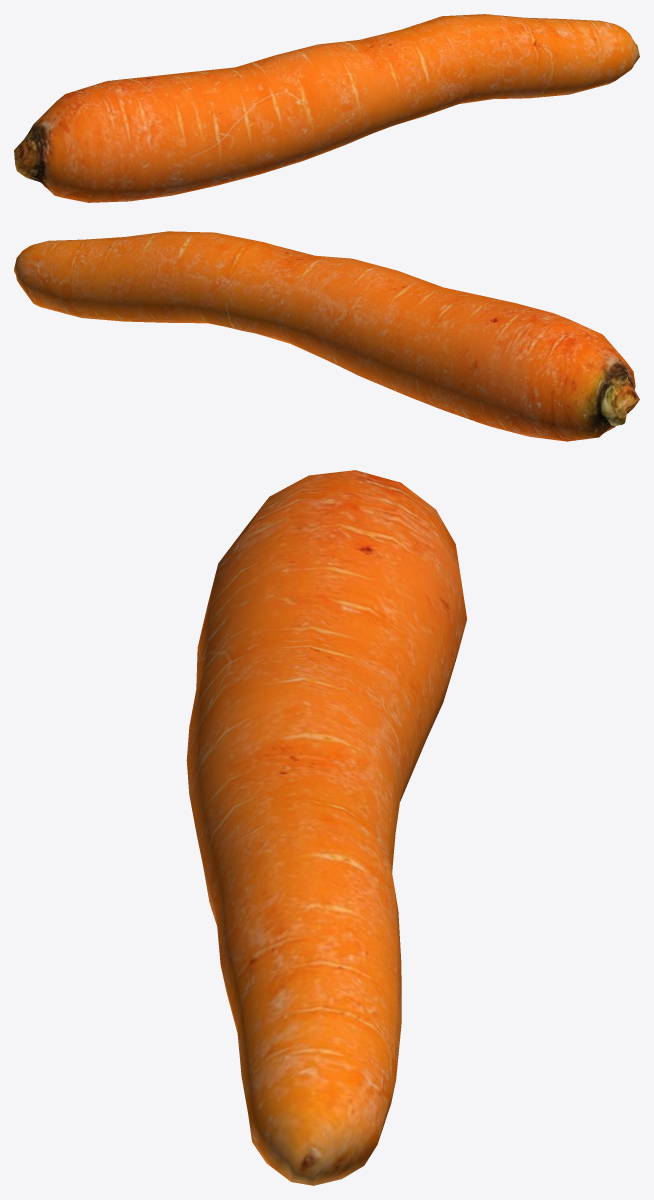
The model's file is A31_Carrot_low.fbx.
3 views of the same model, one above another, from view 1: azimuth 30°, elevation 25°; view 2: azimuth 150°, elevation 25°; view 3: azimuth 270°, elevation 25° (orthographic). The views are drawn at different scales.
Visible parts, largest first — view 1: A31_Carrot_low; view 2: A31_Carrot_low; view 3: A31_Carrot_low.
Part boxes in pixels (x1,y1,x2,y2): A31_Carrot_low: [14, 14, 639, 202]; A31_Carrot_low: [14, 231, 639, 441]; A31_Carrot_low: [186, 470, 467, 1185].
Bounding box in the file's own units: 25.78 × 5.17 × 4.51.
1 material, 1 textured.
